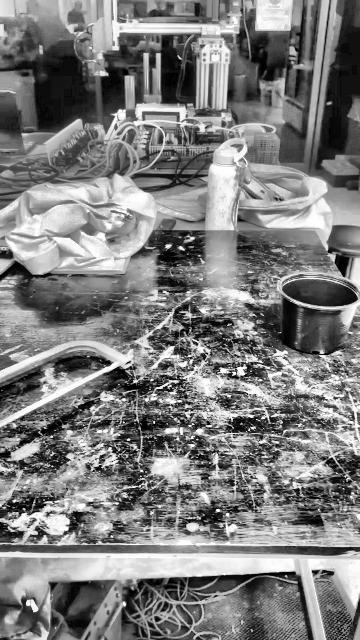pot: (277, 272, 360, 353)
